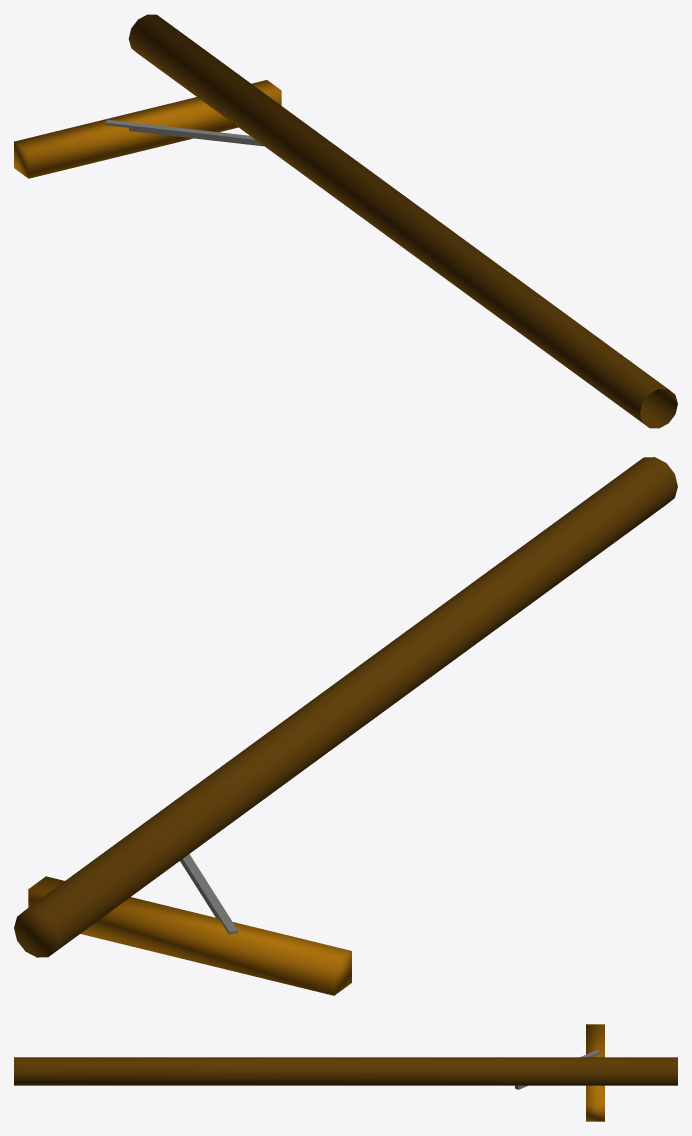
The model's file is LightPole.fbx.
3 renders of one model, top to bottom at view 1: azimuth 30°, elevation 25°; view 2: azimuth 150°, elevation 25°; view 3: azimuth 270°, elevation 25°, orthographic. The views are drawn at different scales.
Visible parts, largest first — view 1: LP_LightPole; view 2: LP_LightPole; view 3: LP_LightPole.
Boxes of the visible parts, left/top/right/bottom form: LP_LightPole: left=14, top=14, right=677, bottom=428; LP_LightPole: left=14, top=457, right=677, bottom=995; LP_LightPole: left=14, top=1024, right=677, bottom=1121.
Size of the model in its own units: 2 by 0.5 by 7.
